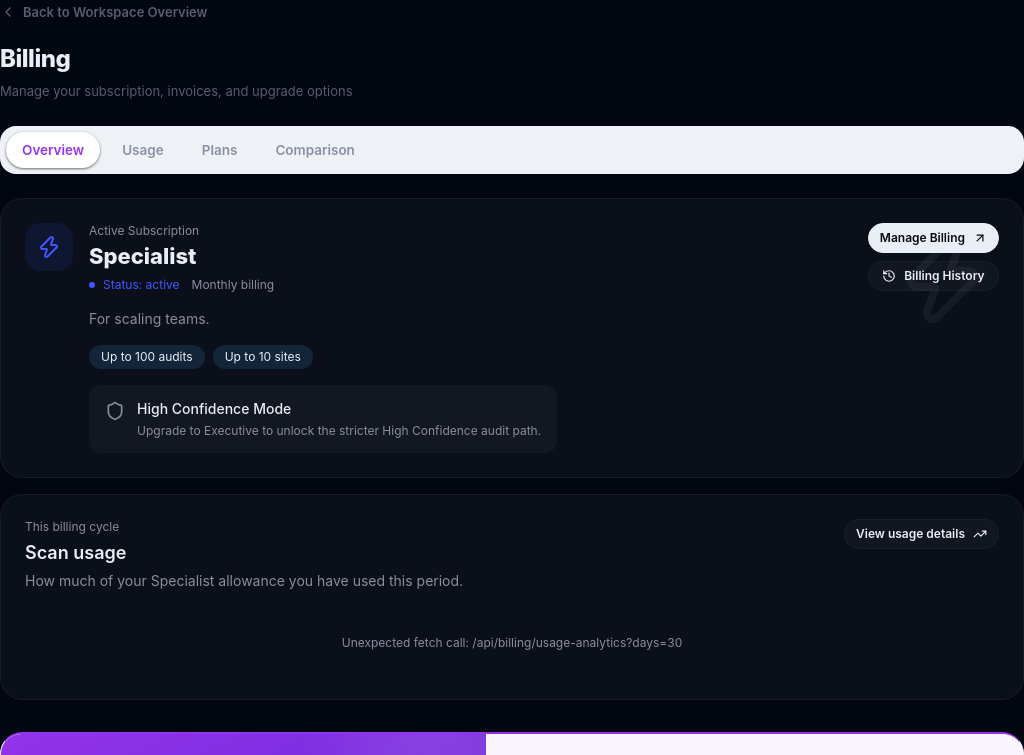
Test: BillingPage › enables the current plan only for an interval change and disables it for the active interval
This screenshot has width=1024, height=755.
Expected: the text "Active Subscription" is shown, [89,222,199,238]
Click the tab "Plans" at (220, 150), box [186,132,253,168]
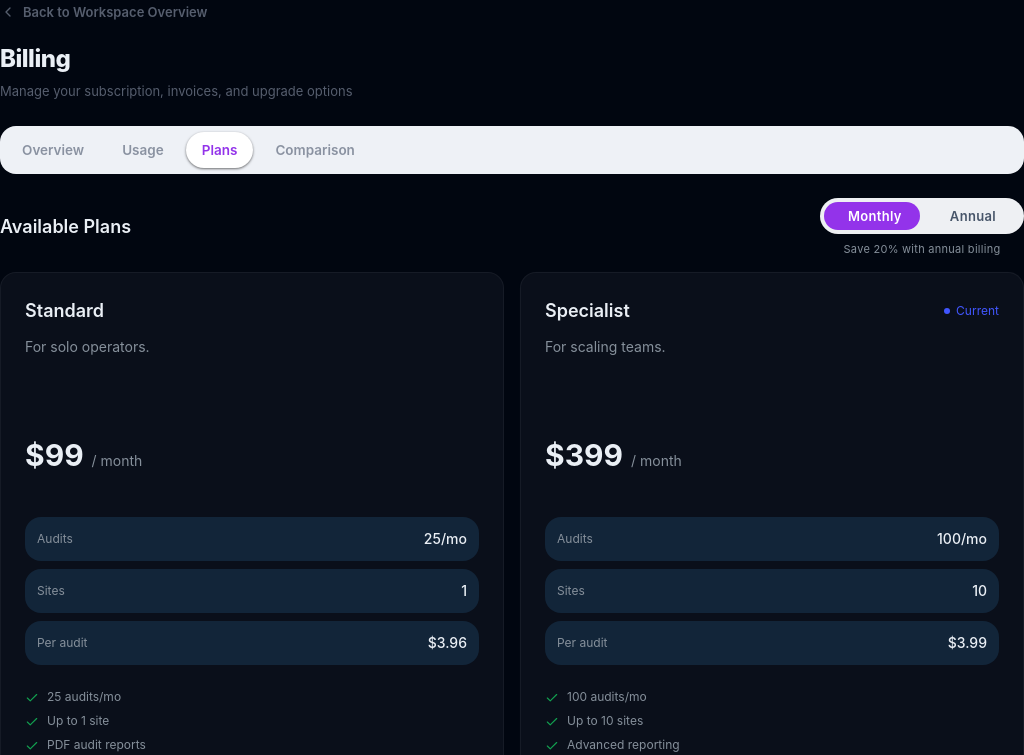
Click the button "Annual" at (973, 216), box [926,202,1020,230]
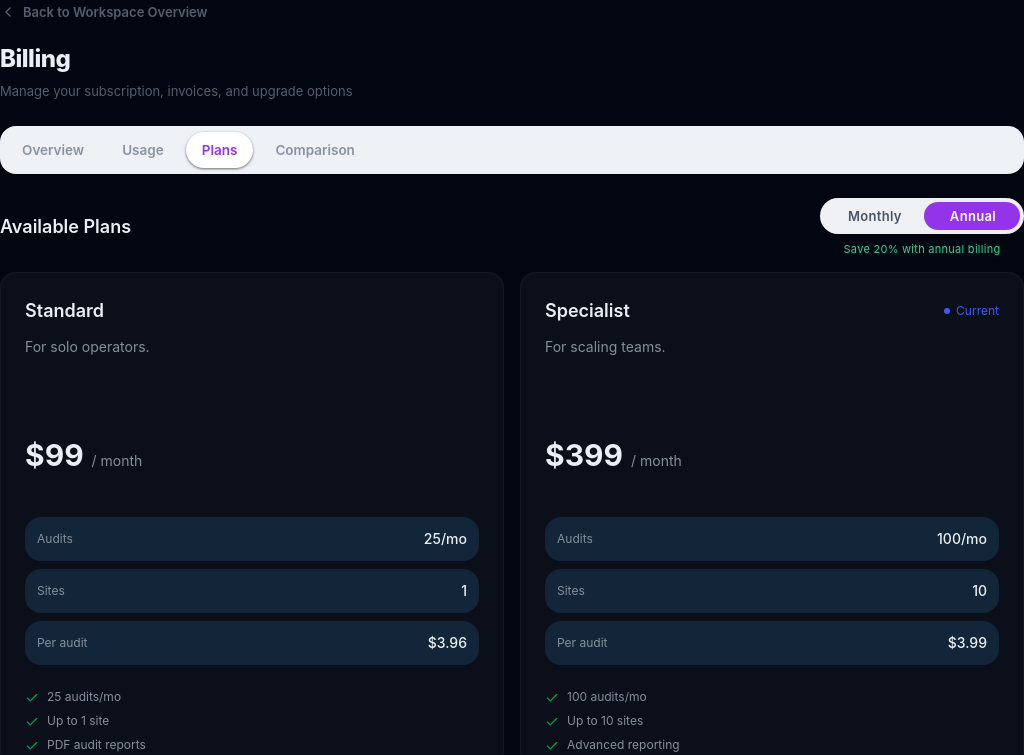
Click the button "Monthly" at (875, 216), box [824,202,926,230]
(page scrolled)
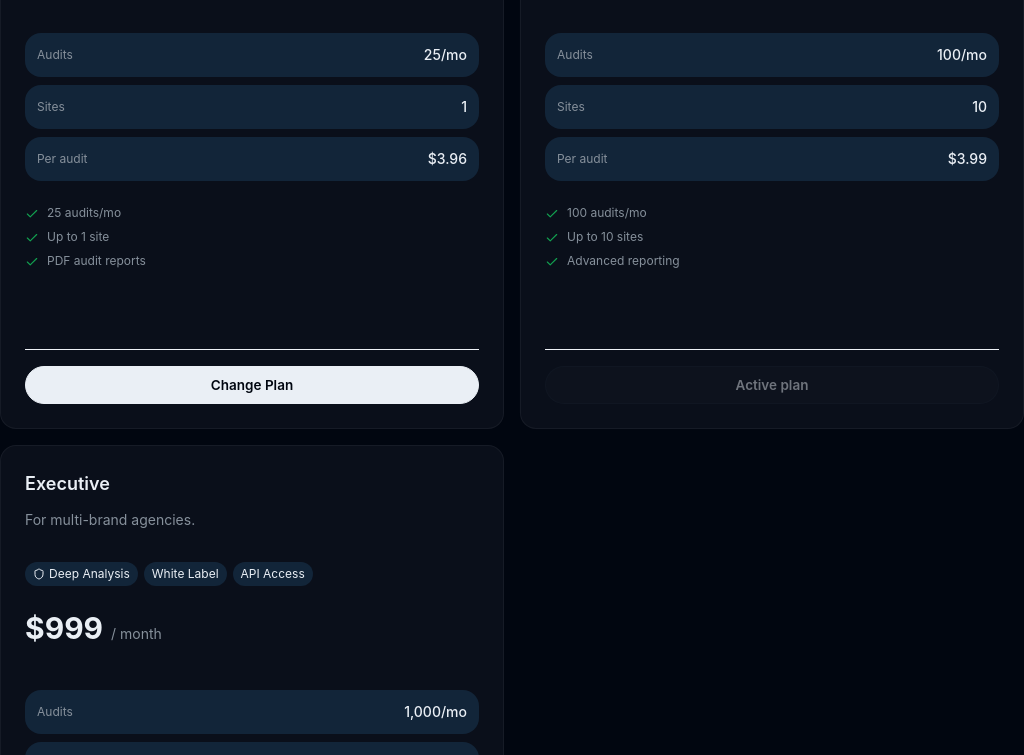
Expected: the button "Active plan" is disabled, [545,366,999,404]
